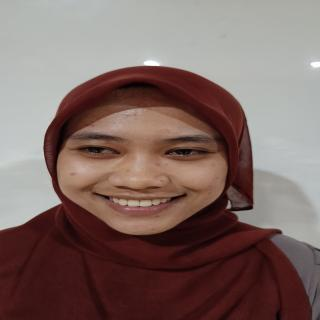Senang: (45, 81, 232, 240)
